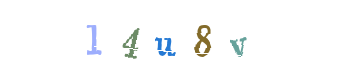4: (124, 0, 204, 80)
8: (132, 0, 212, 80)
L: (95, 0, 175, 80)
U: (132, 0, 212, 80)
V: (163, 0, 243, 80)
